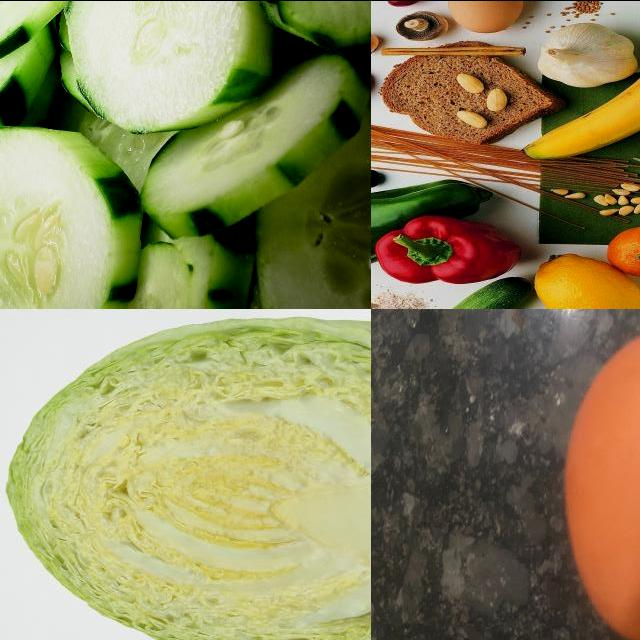bell_pepper: (381, 219, 511, 279)
cabbage: (1, 311, 372, 640)
cucumber: (1, 128, 151, 309)
egg: (557, 316, 640, 640), (446, 1, 524, 32)
onion: (538, 24, 637, 85), (372, 31, 382, 54)
zucchini: (404, 280, 533, 309)
